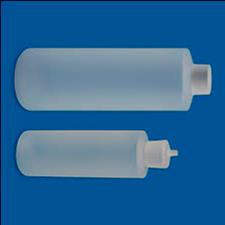Plastic: (11, 45, 213, 113), (12, 131, 185, 178)
